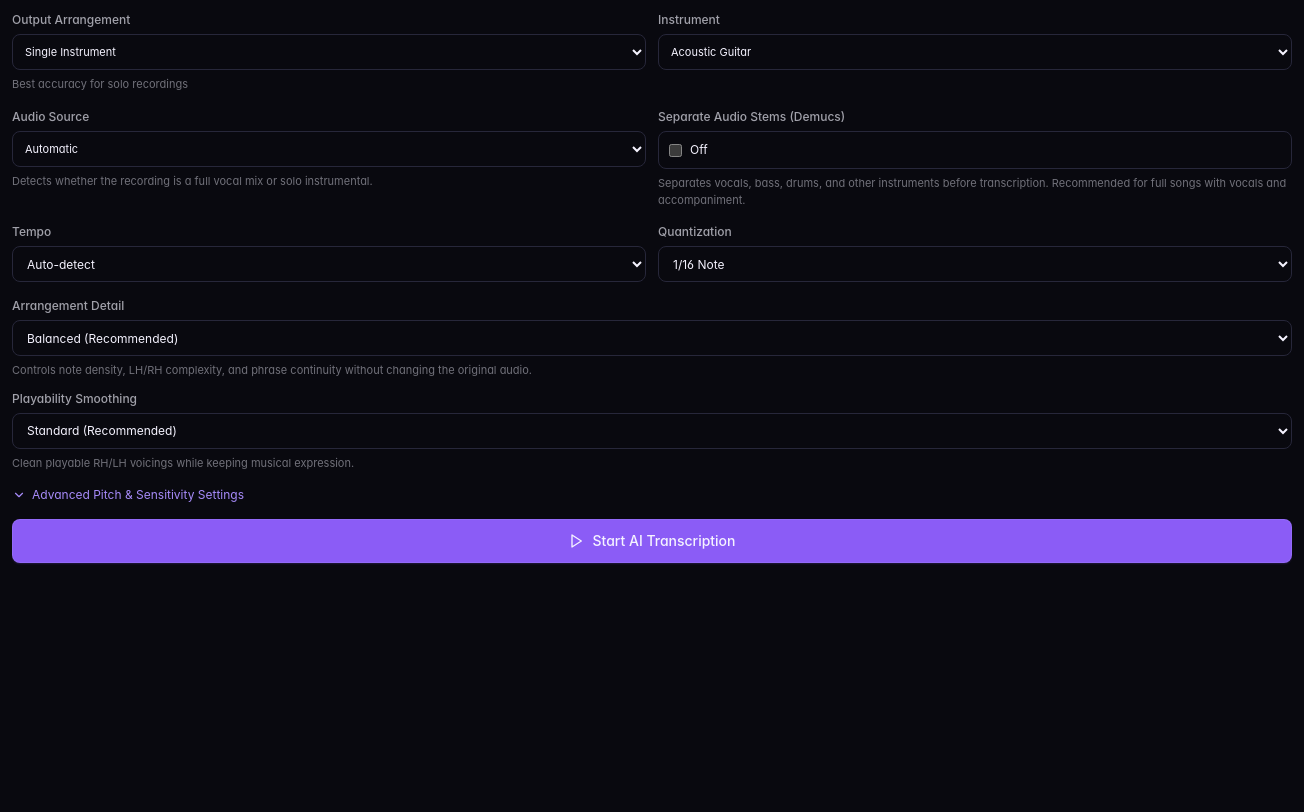
Test: Piano Playability Smoothing & Default Arrangement Settings › preserves saved project mode and explicit user mode selections while preferring Piano (Grand Staff) when switching to Piano
The width and height of the screenshot is (1304, 812).
Later steps or results of the test are not shown.
Expected: the dropdown labelled "Output Arrangement" shows "Single Instrument", [12,34,646,70]
Note: Switching instrument interactively to Piano prefers Piano (Grand Staff)
Select "Piano" in the dropdown labelled "Instrument" at {"x": 975, "y": 52}, box [658,34,1292,70]
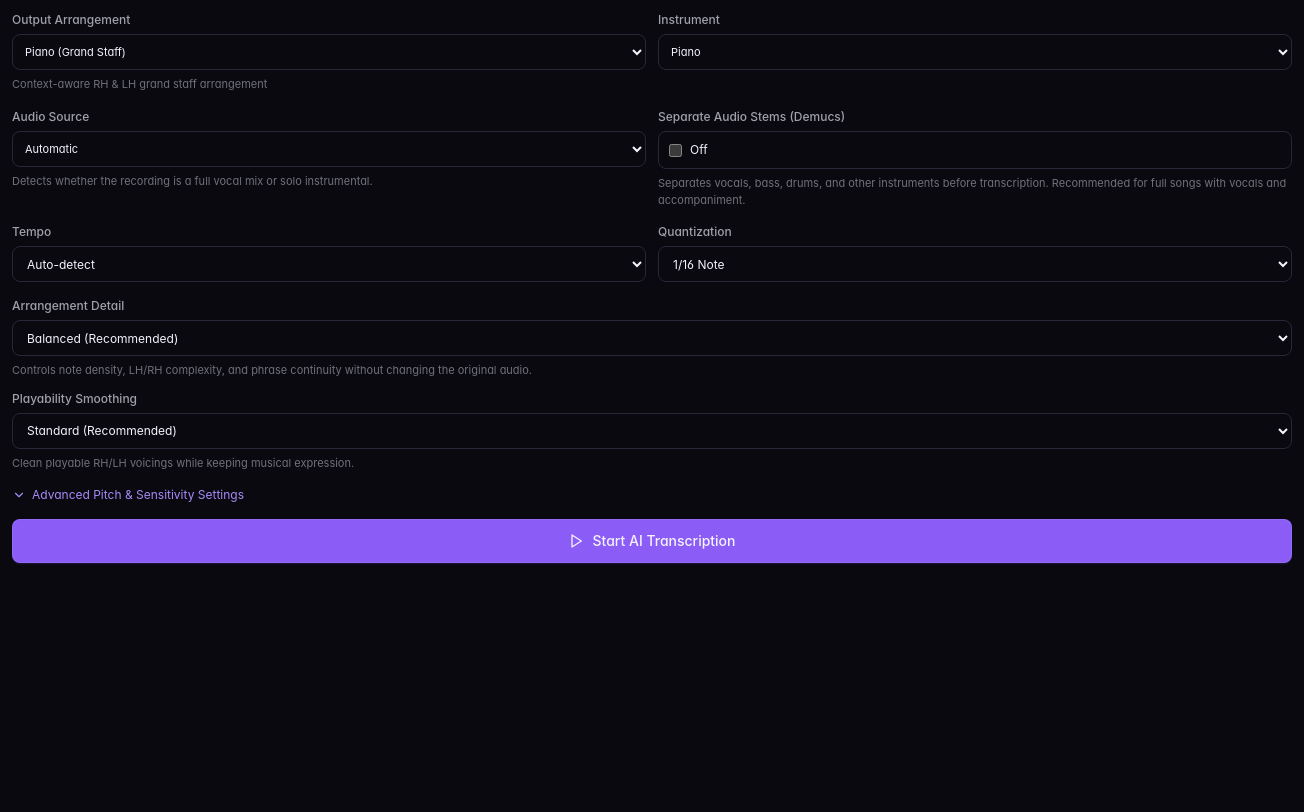
Now the dropdown labelled "Output Arrangement" shows "Piano (Grand Staff)", box [12,34,646,70]
